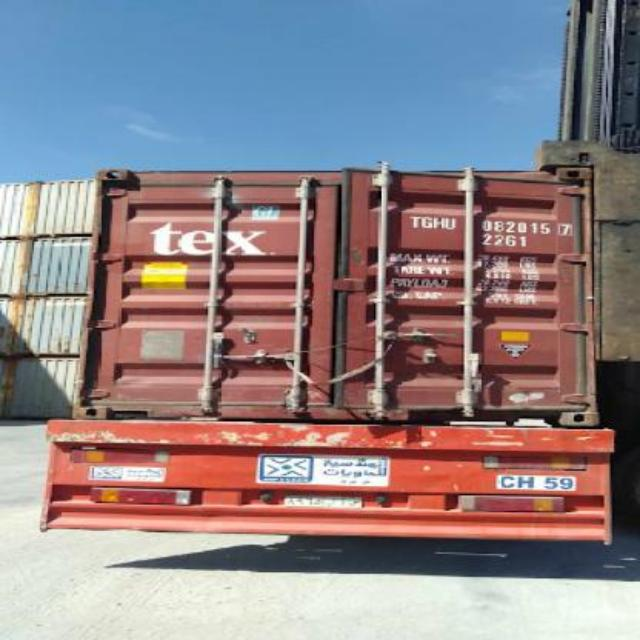0: (476, 218, 492, 232), (516, 222, 528, 234)
1: (530, 222, 538, 234)
2: (502, 220, 518, 233)
5: (538, 220, 550, 236)
7: (558, 222, 574, 238)
8: (492, 219, 506, 235)
G: (422, 216, 434, 232)
H: (432, 214, 444, 230)
T: (408, 210, 424, 232)
U: (444, 216, 460, 232)
